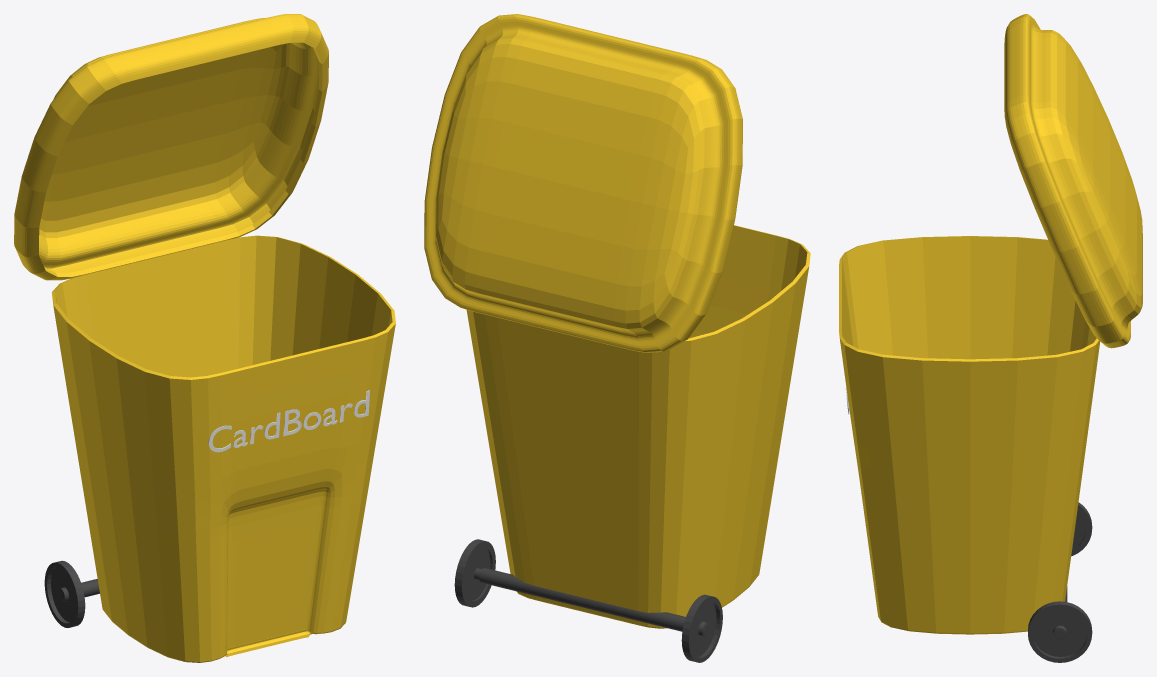
The model's file is Recycling_Cardboard_Bin.fbx.
3 views of the same model, side by side, from view 1: azimuth 30°, elevation 25°; view 2: azimuth 150°, elevation 25°; view 3: azimuth 270°, elevation 25° (orthographic). The views are drawn at different scales.
Parts seen in each view (by area): view 1: Cube, Cube.001, Cylinder.001, Text; view 2: Cube.001, Cube, Cylinder.001, Cylinder; view 3: Cube, Cube.001, Cylinder.001.
Part boxes in pixels (x1,y1,x2,y2): Cube: (52,235,395,662); Cube.001: (14,14,328,280); Cylinder.001: (44,560,85,627); Text: (208,390,369,452); Cube.001: (424,14,742,352); Cube: (466,225,810,628); Cylinder.001: (454,539,722,662); Cylinder: (479,568,685,631); Cube: (839,236,1100,634); Cube.001: (1004,14,1142,348); Cylinder.001: (1028,502,1092,662).
Size of the model in its own units: 184 by 345 by 173.
